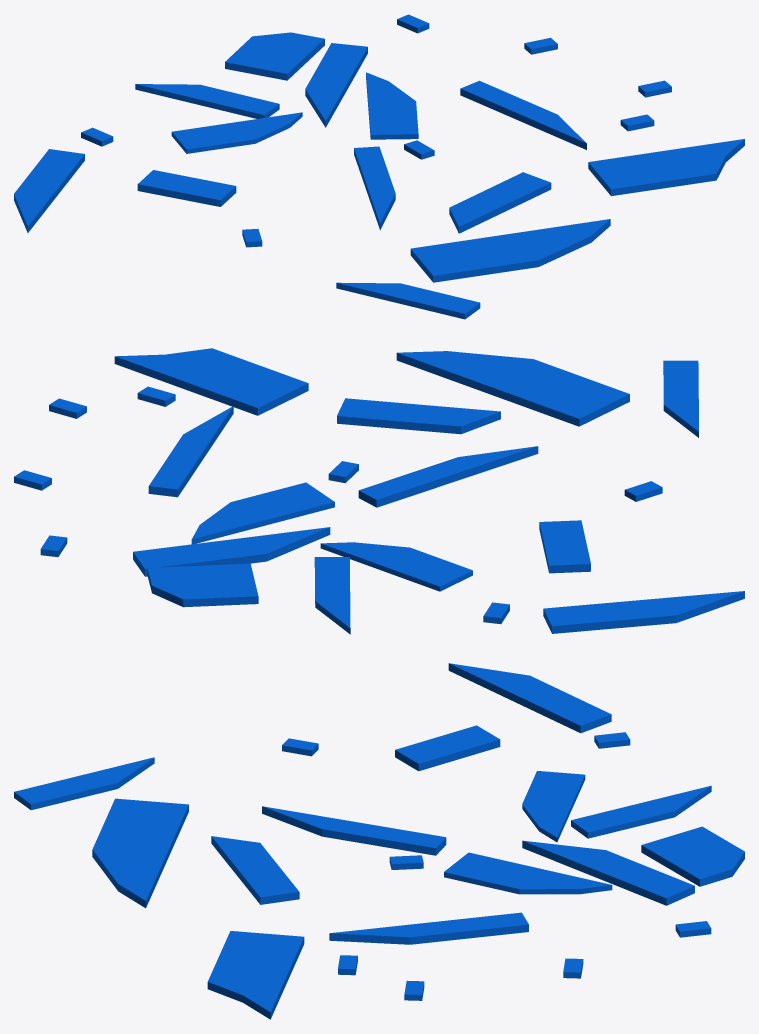
The model's file is Wood_Debris_01.fbx.
3 views of the same model, one above another, from view 1: azimuth 30°, elevation 25°; view 2: azimuth 150°, elevation 25°; view 3: azimuth 270°, elevation 25° (orthographic). The views are drawn at different scales.
Visible parts, largest first — view 1: Wood_Debris_01; view 2: Wood_Debris_01; view 3: Wood_Debris_01.
Part boxes in pixels (box(x1,y1,x2,y2)): Wood_Debris_01: box(14, 14, 744, 319); Wood_Debris_01: box(14, 348, 744, 634); Wood_Debris_01: box(14, 663, 744, 1019).
Bounding box in the file's own units: 110 × 3.05 × 99.6.
